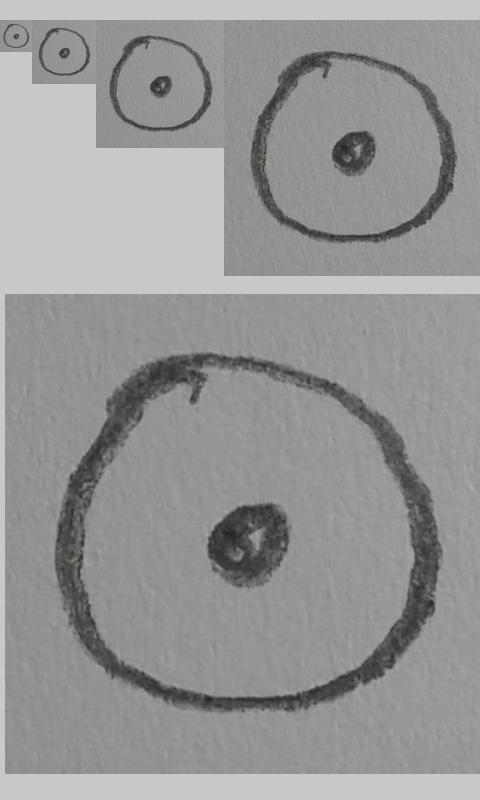radio_button: (54, 352, 443, 717), (249, 48, 457, 245), (108, 34, 213, 132), (38, 27, 91, 77), (2, 23, 30, 49)
